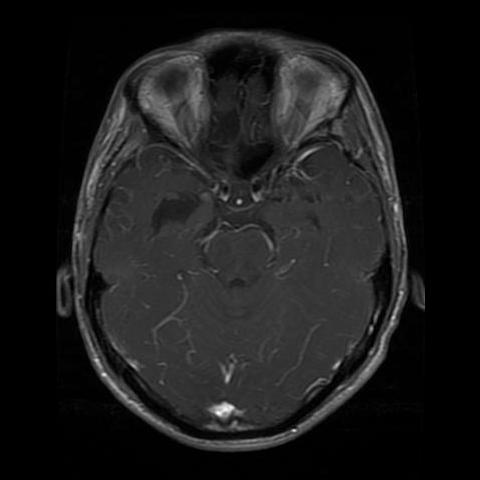Tumour-Glioma: (146, 179, 205, 238)
